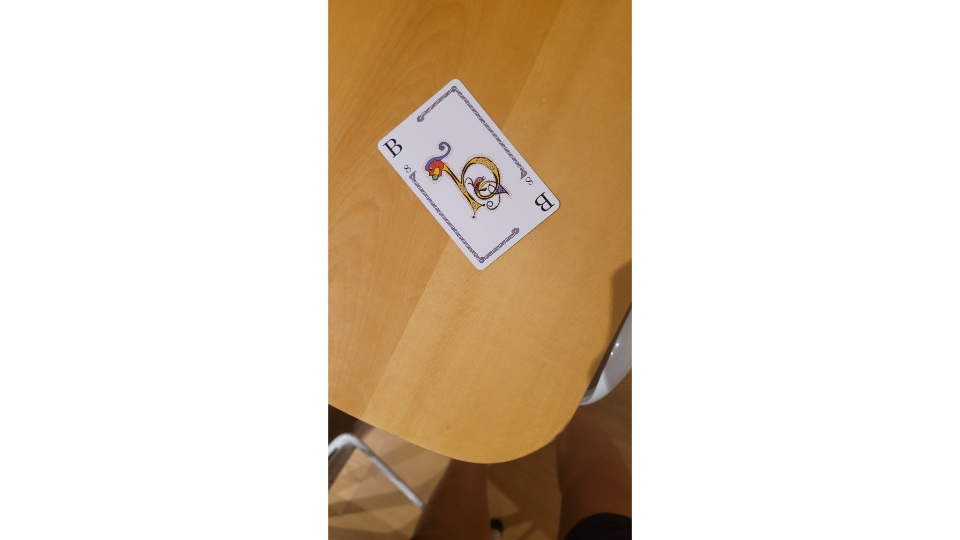B: (376, 76, 566, 274)
